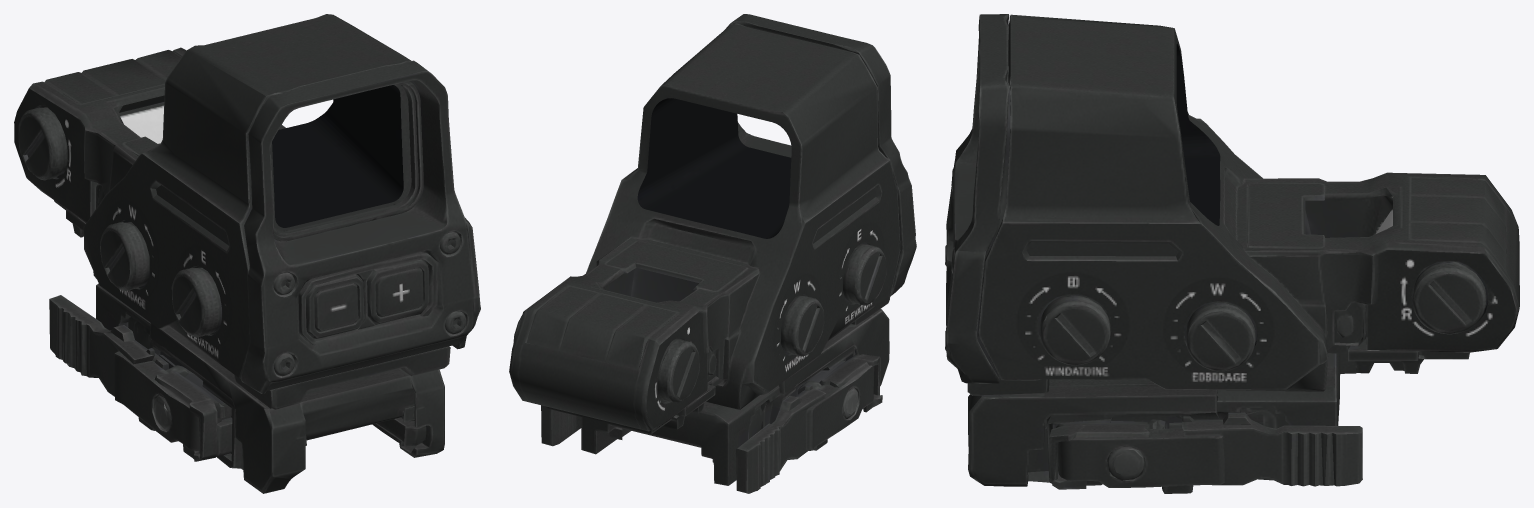
File: holo.glb
The picture shows the model from 3 angles, left to right: view 1: azimuth 30°, elevation 25°; view 2: azimuth 150°, elevation 25°; view 3: azimuth 270°, elevation 25°; orthographic projection. The views are drawn at different scales.
Parts seen in each view (by area): view 1: Holo; view 2: Holo; view 3: Holo.
Boxes of the visible parts, x1,y1,x2,y2 form: Holo: (14,14,480,493); Holo: (509,14,916,493); Holo: (945,14,1519,493).
Size of the model in its own units: 0.0615 by 0.0932 by 0.1219.
Materials: 1 (1 with a texture image).
